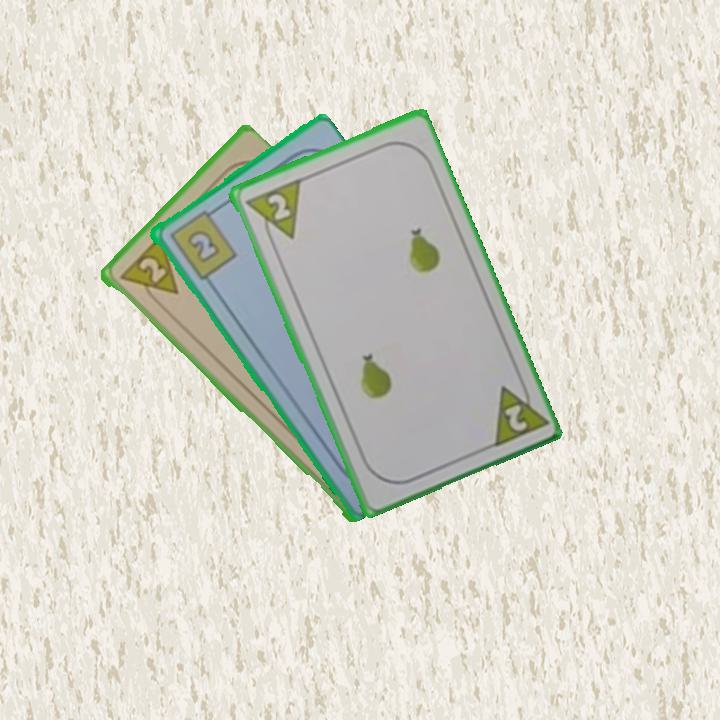2b: (165, 204, 239, 283)
2p: (115, 233, 181, 310), (486, 374, 548, 451), (241, 175, 303, 249)
